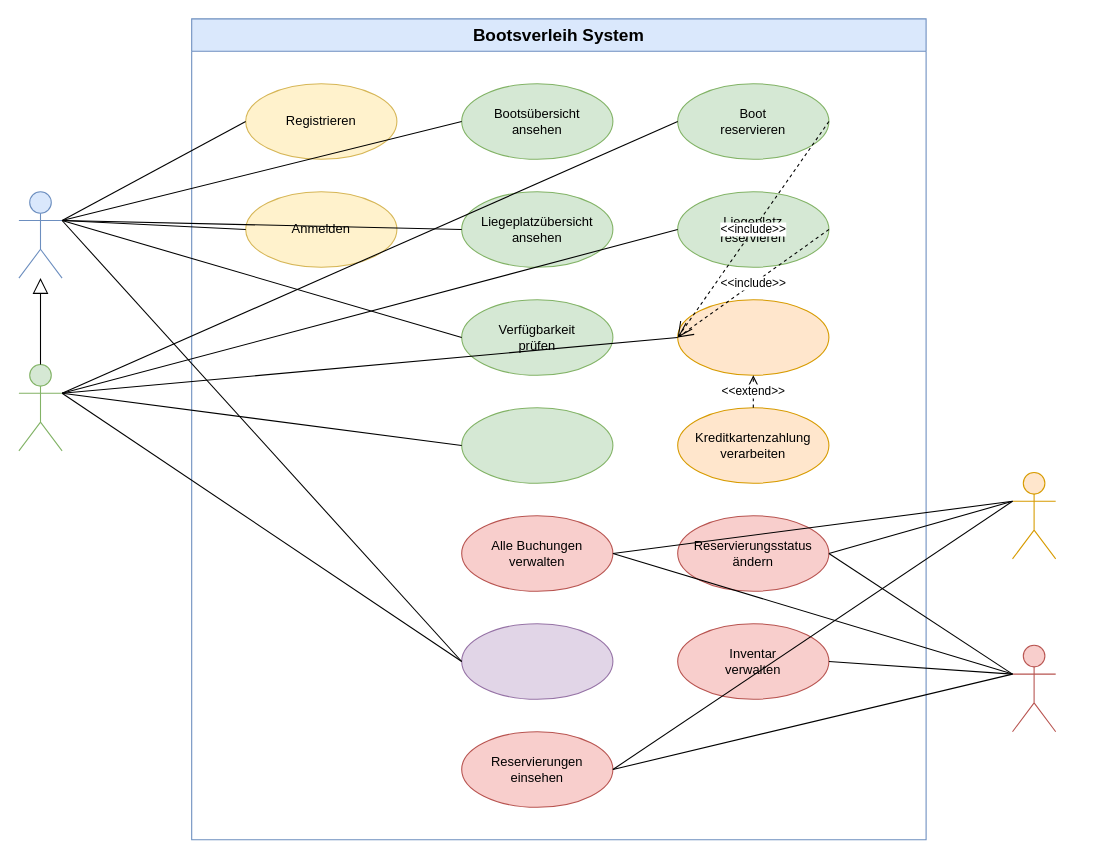
Image size: 1095x859. Some labels were removed from this diagram. Here are the shapes that lost their labels. From the top down, the centre of each, then its label:
At (x=40, y=234): "Gast".
At (x=753, y=337): "Zahlung durchführen".
At (x=40, y=407): "Kunde".
At (x=537, y=445): "Eigene Buchungen ansehen".
At (x=1033, y=515): "Mitarbeiter (Worker)".
At (x=537, y=661): "Wetterinformationen anzeigen".
At (x=1033, y=688): "Administrator".
